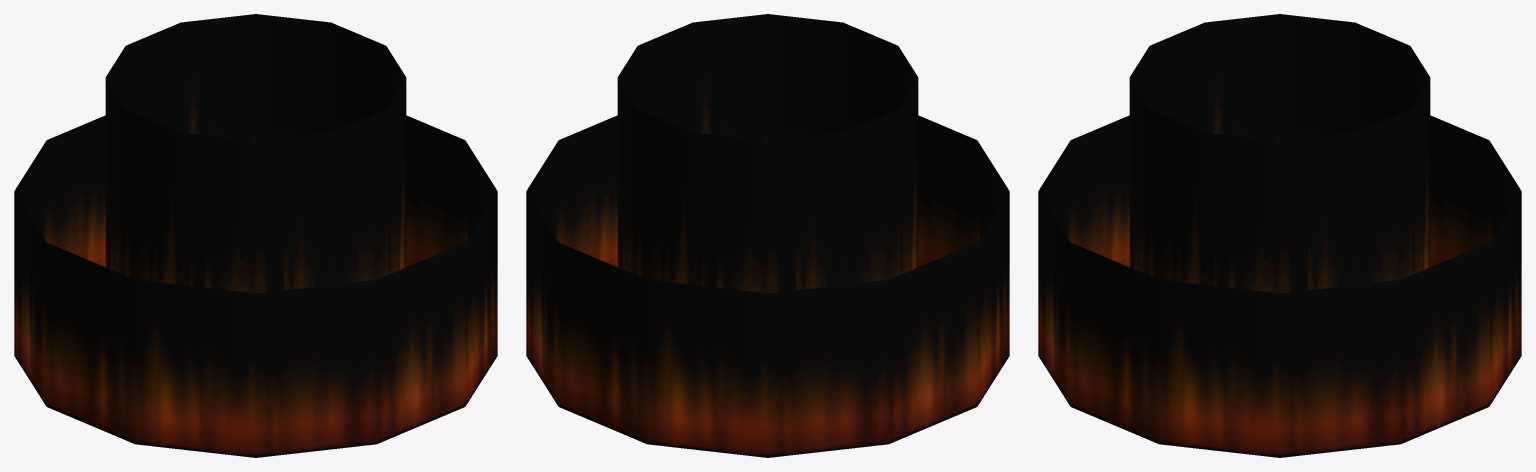
Rendered from effect_shenyi.fbx.
The picture shows the model from 3 angles, left to right: view 1: azimuth 30°, elevation 25°; view 2: azimuth 150°, elevation 25°; view 3: azimuth 270°, elevation 25°; orthographic projection.
Visible parts, largest first — view 1: polySurface1; view 2: polySurface1; view 3: polySurface1.
Boxes of the visible parts, x1,y1,x2,y2 form: polySurface1: (14,14,497,457); polySurface1: (526,14,1009,457); polySurface1: (1038,14,1521,457).
Bounding box in the file's own units: 290 × 184 × 290.
